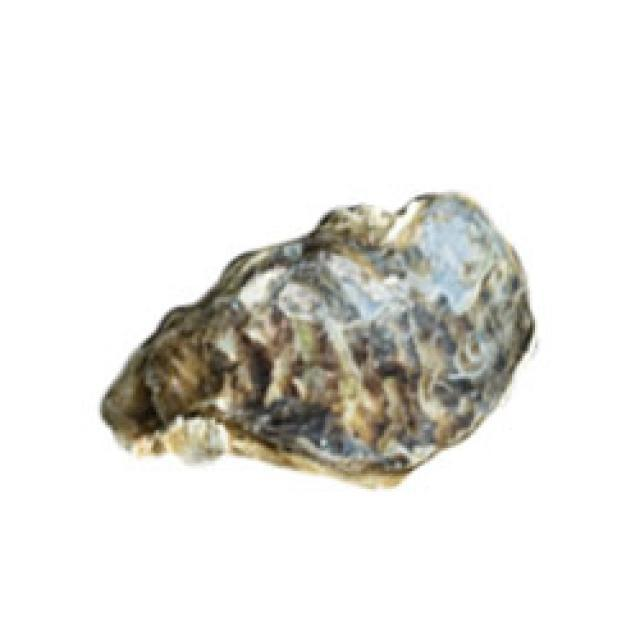Oyster- Indeterminate: (93, 177, 544, 496)
